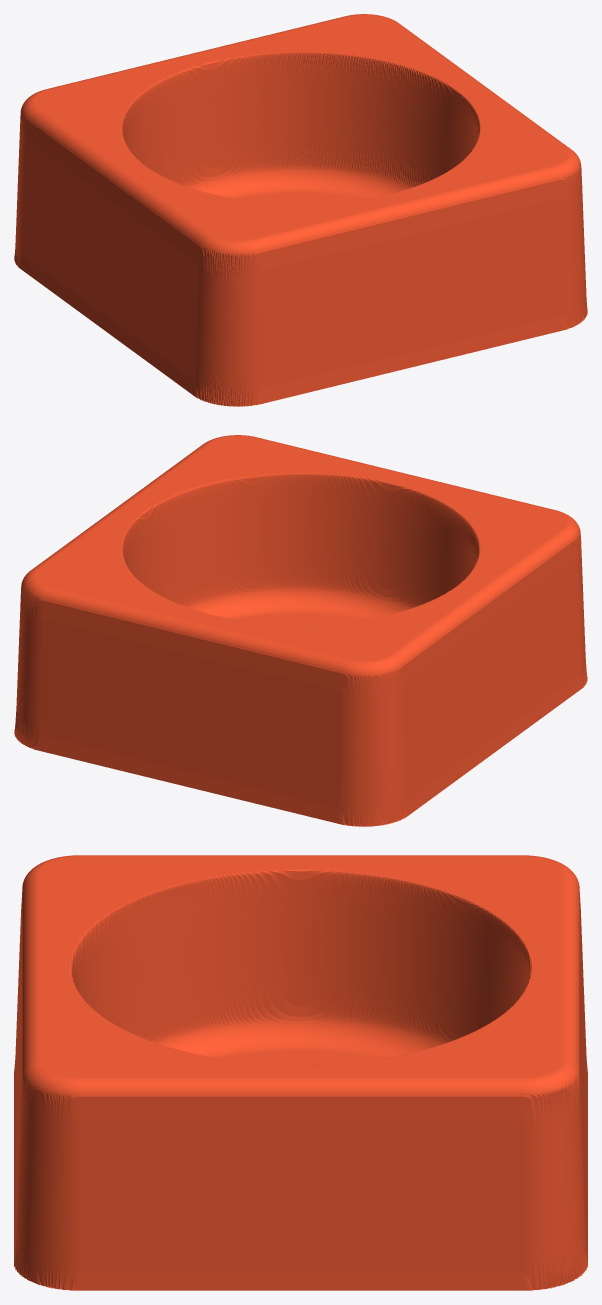
Rendered from mold.glb.
3 views of the same model, one above another, from view 1: azimuth 30°, elevation 25°; view 2: azimuth 150°, elevation 25°; view 3: azimuth 270°, elevation 25° (orthographic). The views are drawn at different scales.
Visible parts, largest first — view 1: geometry_0; view 2: geometry_0; view 3: geometry_0.
Boxes of the visible parts, x1=… form: geometry_0: x1=14, y1=14, x2=587, y2=406; geometry_0: x1=14, y1=435, x2=587, y2=826; geometry_0: x1=14, y1=855, x2=587, y2=1290.
Size of the model in its own units: 0.0798 by 0.031 by 0.0798.
